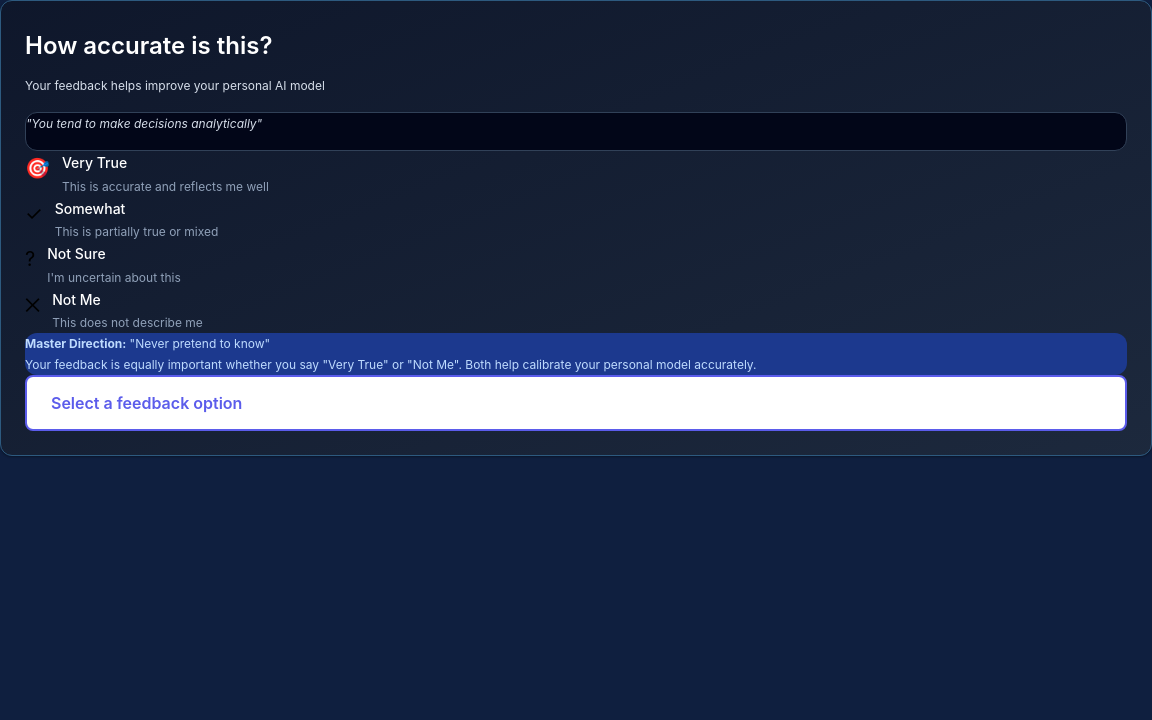
FeedbackWidget Component › Comment Field › should show comment field when allowComment=true
Expected: the field with placeholder "additional context" is not shown
Click the button "Very True".
click(95, 162)  # box [25, 151, 1127, 196]
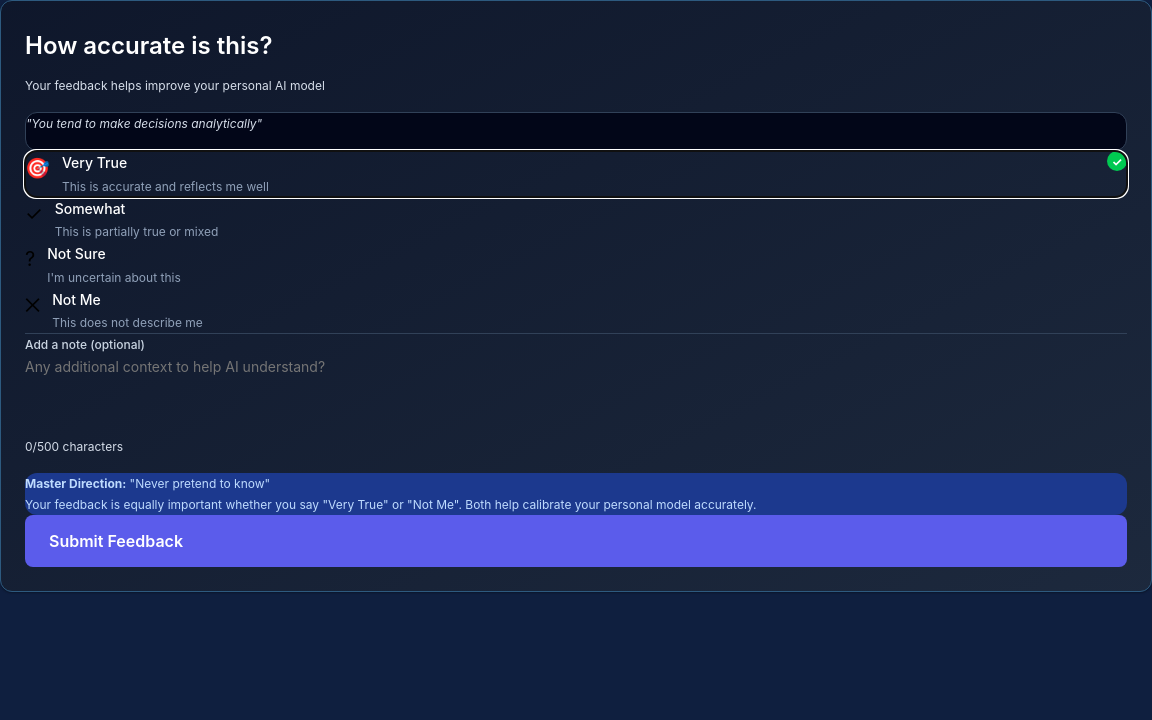
Result: the text box with placeholder "Any additional context to help AI understand?" is shown at [25, 355, 1127, 428]
